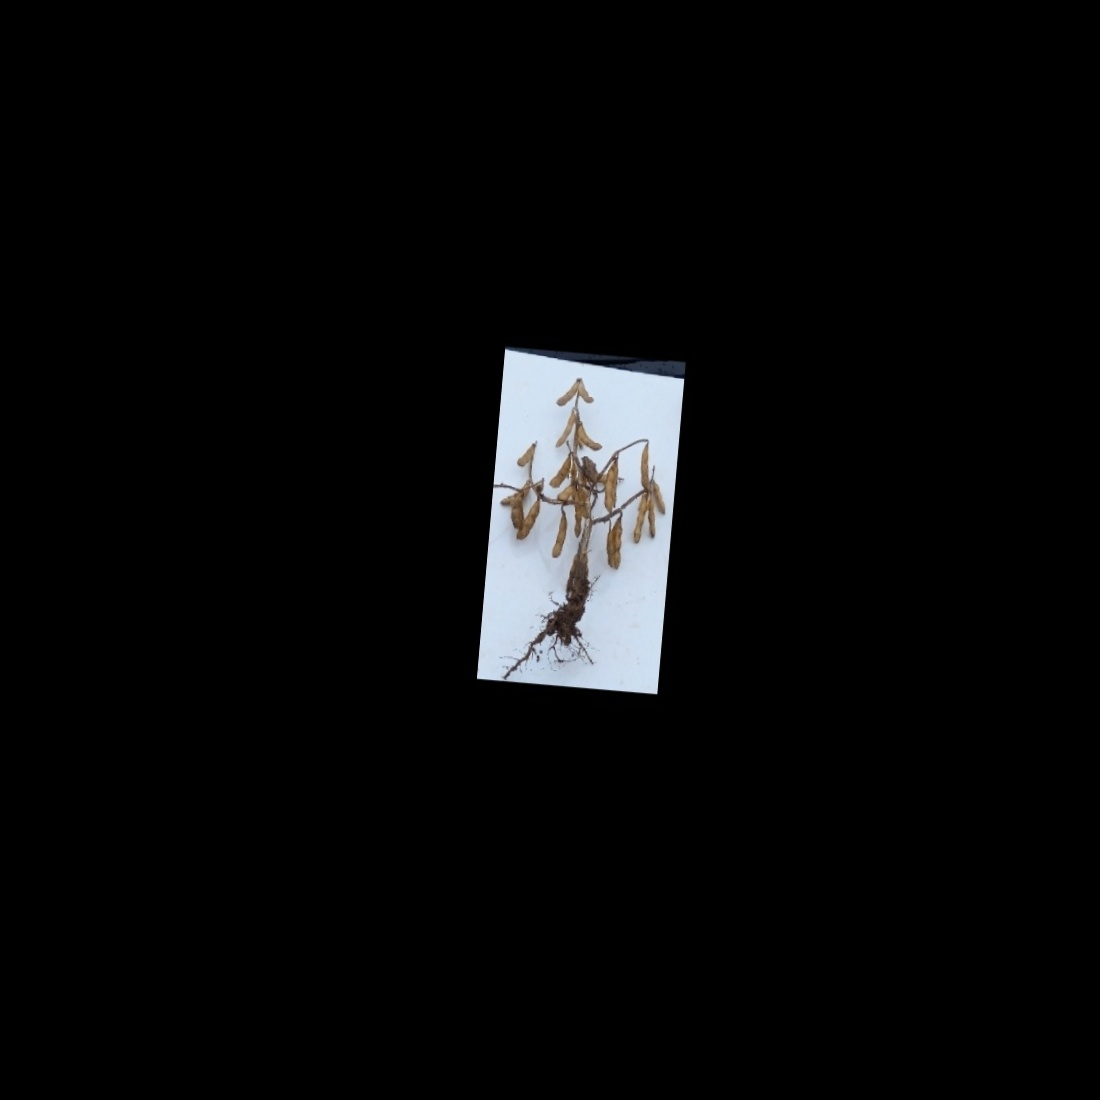pod: (515, 499, 543, 545), (609, 520, 632, 574), (573, 414, 605, 451), (549, 513, 570, 561), (551, 409, 575, 451), (631, 496, 649, 547), (547, 452, 571, 489), (554, 378, 578, 409), (639, 442, 652, 491), (602, 465, 615, 514), (513, 441, 535, 469), (610, 462, 622, 505), (554, 482, 575, 502), (571, 505, 583, 539)
soy: (485, 367, 680, 683)
